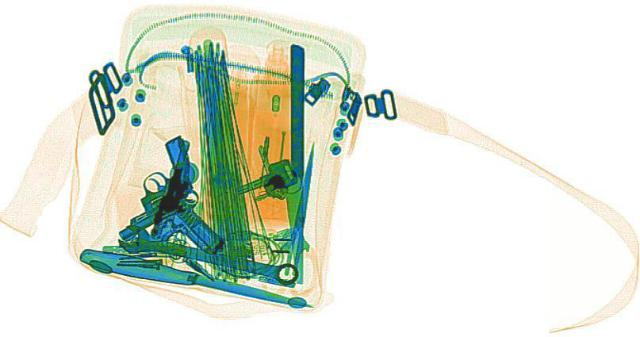Gun: (40, 135, 262, 238), (134, 140, 262, 253)
Knife: (70, 244, 320, 315), (284, 142, 318, 281), (288, 42, 304, 281)
Wrench: (109, 229, 307, 284)
